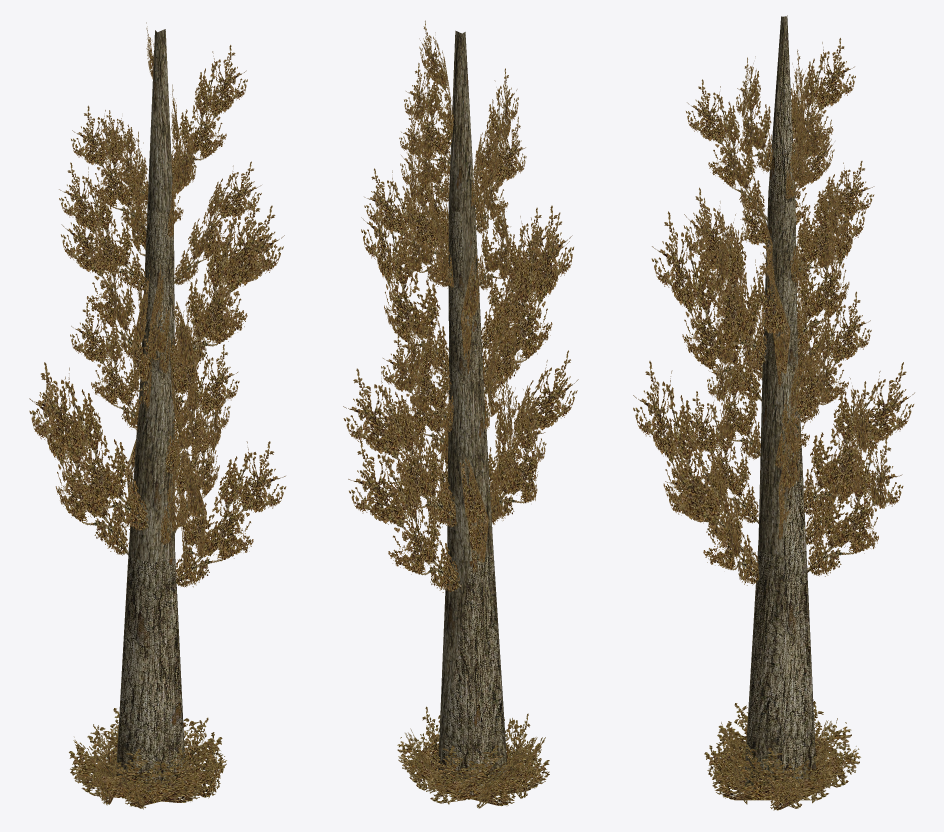
The model's file is w_cd_tree03.glb.
3 renders of one model, left to right at view 1: azimuth 30°, elevation 25°; view 2: azimuth 150°, elevation 25°; view 3: azimuth 270°, elevation 25°, orthographic. The views are drawn at different scales.
Parts seen in each view (by area): view 1: w_cd_tree03; view 2: w_cd_tree03; view 3: w_cd_tree03.
Boxes of the visible parts, <box> form: w_cd_tree03: <box>29,22,286,809</box>; w_cd_tree03: <box>343,20,578,808</box>; w_cd_tree03: <box>633,15,914,810</box>.
Size of the model in its own units: 6.69 by 19.89 by 7.19.
3 materials, 3 textured.
